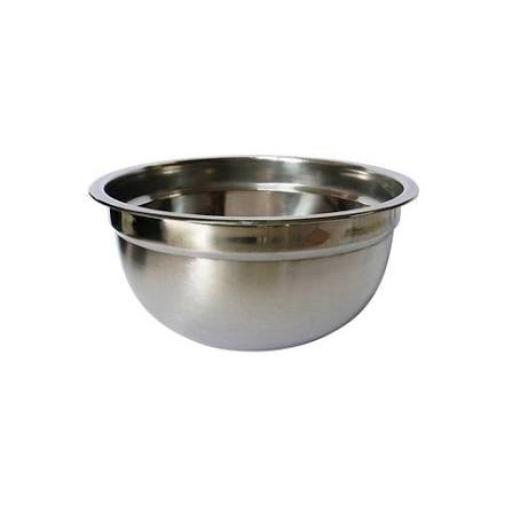Bowl: (90, 155, 418, 353)
